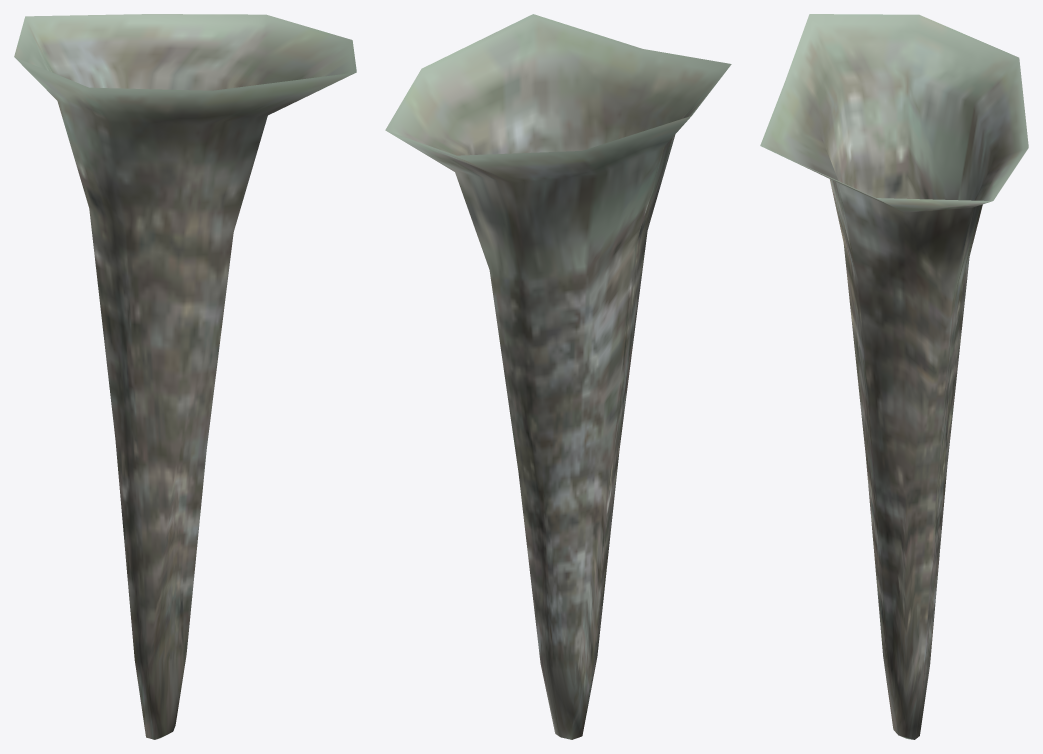
The model's file is TROLLHOLE02_PS-UPPERSTALAG07.fbx.
3 views of the same model, side by side, from view 1: azimuth 30°, elevation 25°; view 2: azimuth 150°, elevation 25°; view 3: azimuth 270°, elevation 25° (orthographic). The views are drawn at different scales.
Visible parts, largest first — view 1: TROLLHOLE02_PS-UPPERSTALAG07; view 2: TROLLHOLE02_PS-UPPERSTALAG07; view 3: TROLLHOLE02_PS-UPPERSTALAG07.
Part boxes in pixels (bbox=[...]): TROLLHOLE02_PS-UPPERSTALAG07: bbox=[14, 14, 356, 739]; TROLLHOLE02_PS-UPPERSTALAG07: bbox=[385, 14, 731, 739]; TROLLHOLE02_PS-UPPERSTALAG07: bbox=[760, 14, 1028, 739].
Bounding box in the file's own units: 15174 × 33047 × 12034.
Materials: 1 (1 with a texture image).
